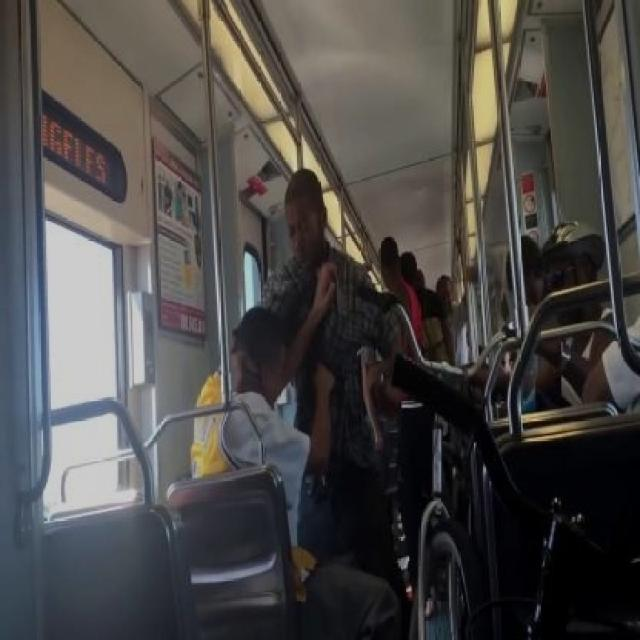fight: (165, 157, 443, 638)
